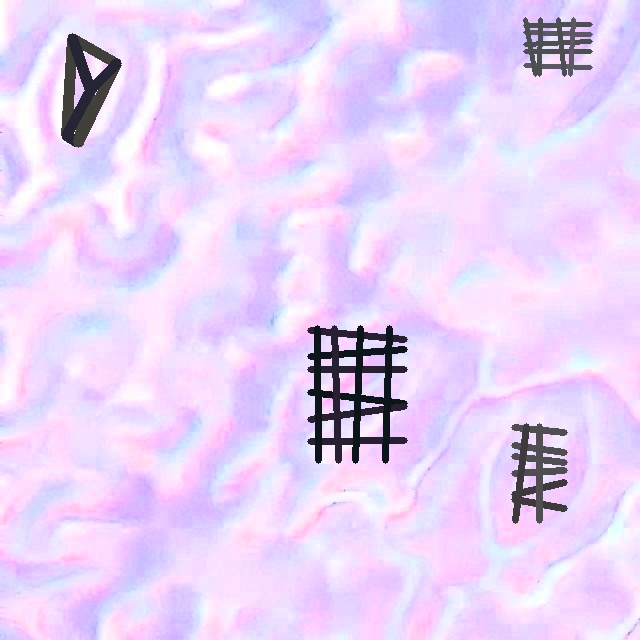open: (307, 326, 406, 462), (61, 34, 120, 146), (511, 424, 566, 523), (523, 17, 592, 76)
